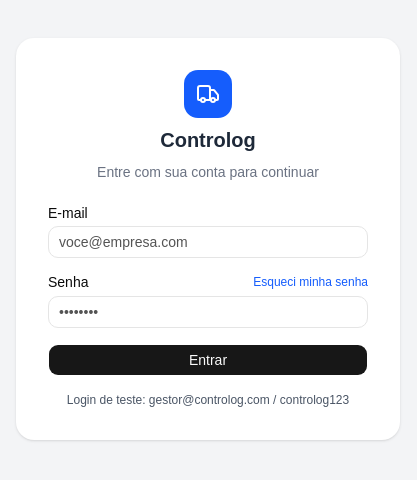
Test: Login › mostra erros de validação para campos vazios
The width and height of the screenshot is (417, 480).
Click the button "Entrar" at (208, 360), box [48, 344, 368, 376]
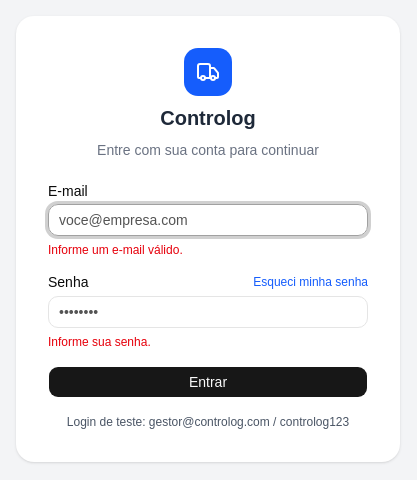
Check: the text "Informe um e-mail válido." is shown, box [48, 243, 183, 257]
